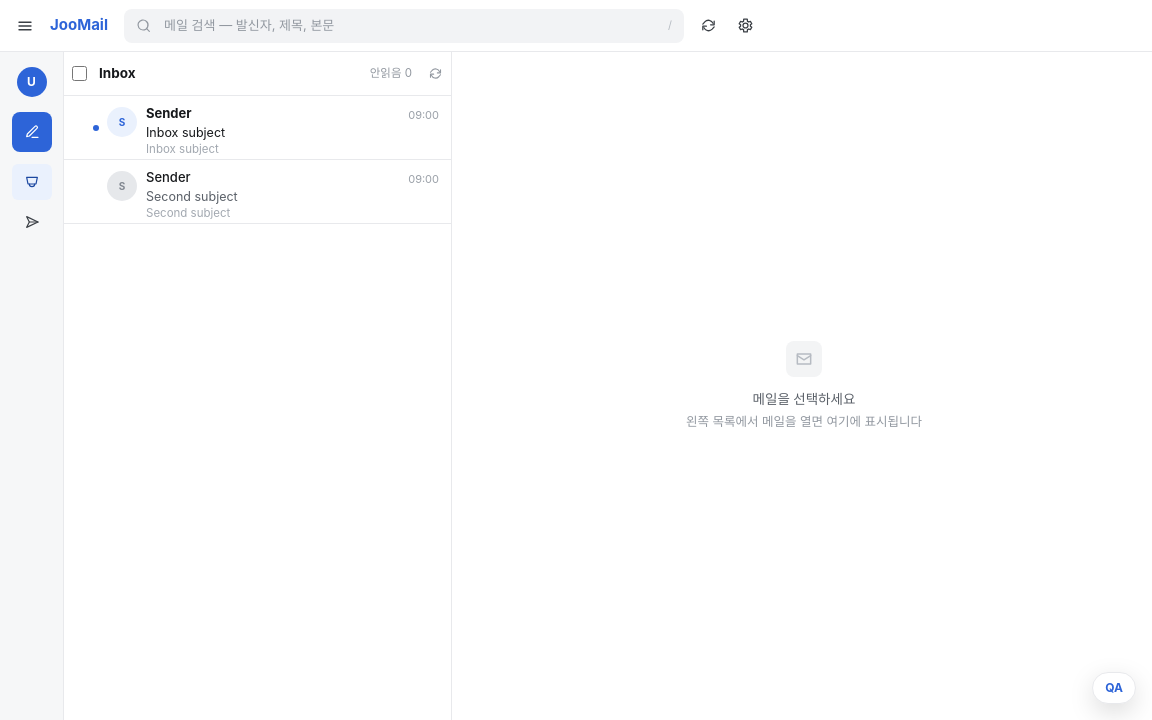
AppShell live mail behavior › ignores an older seen failure after a newer open succeeds
Click the button "S Sender 09:00 Inbox subject Inbox subject" at (169, 113), box [64,96,451,160]
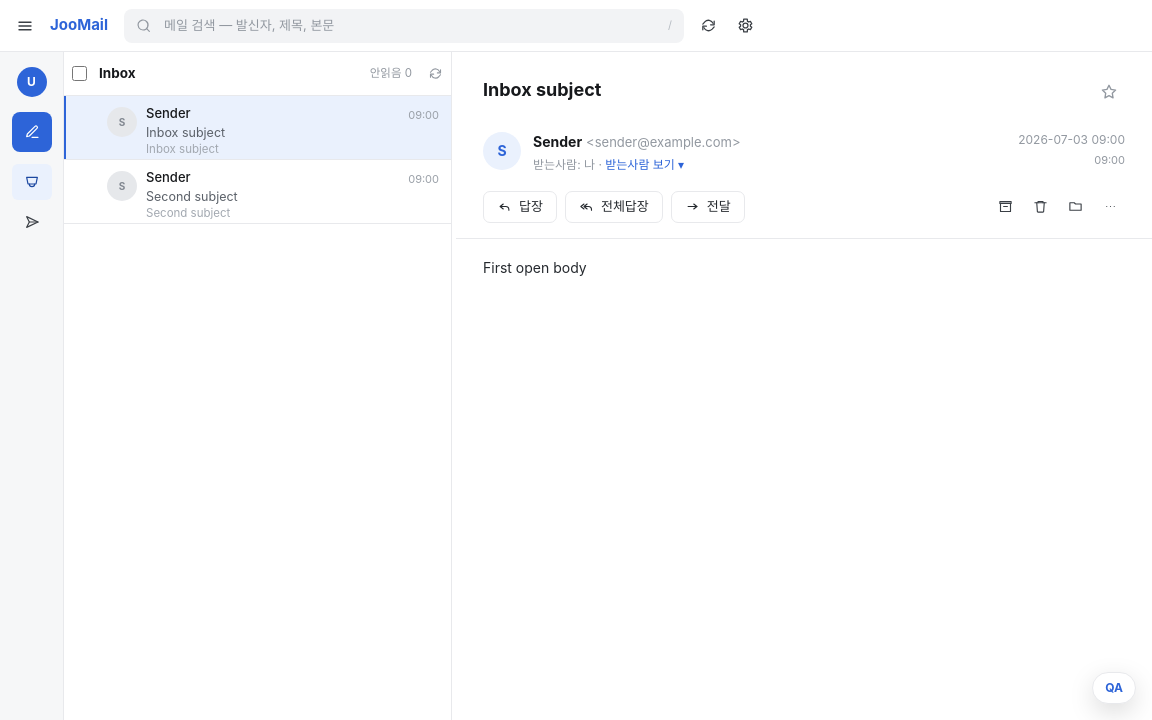
Click the button "S Sender 09:00 Second subject Second subject" at (168, 177), box [64,160,451,224]
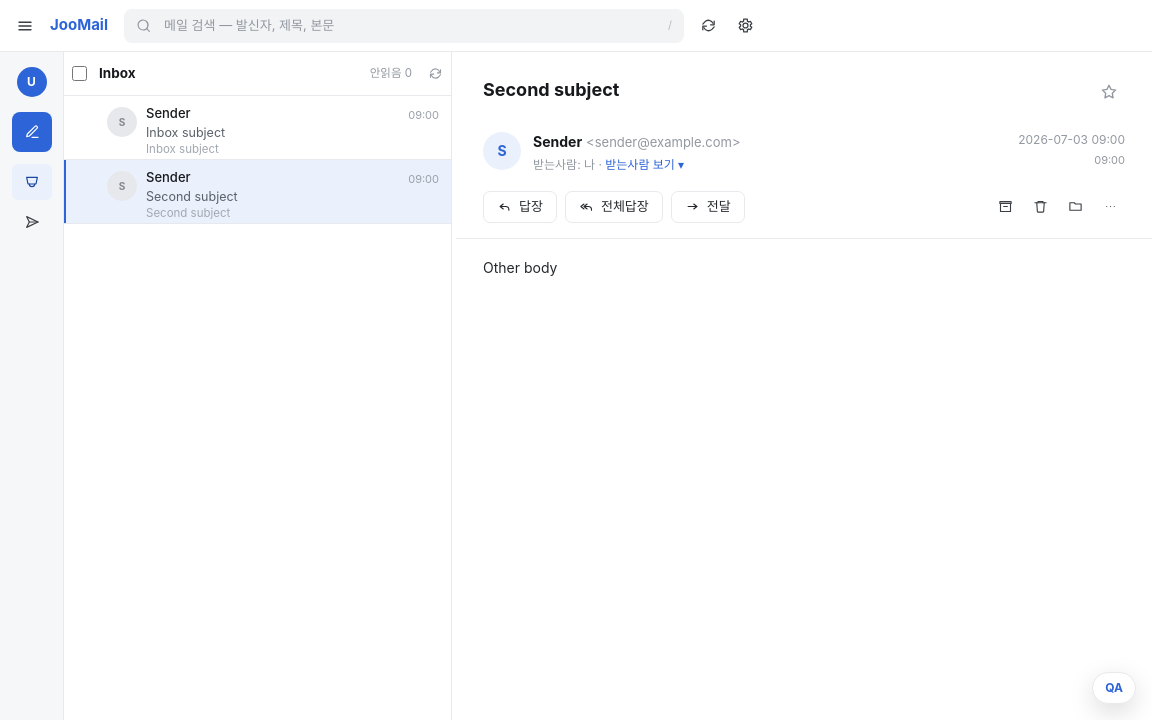
Result: the text "Other body" is shown at [483,258,557,276]
Click the button "S Sender 09:00 Inbox subject Inbox subject" at (168, 113), box [64,96,451,160]
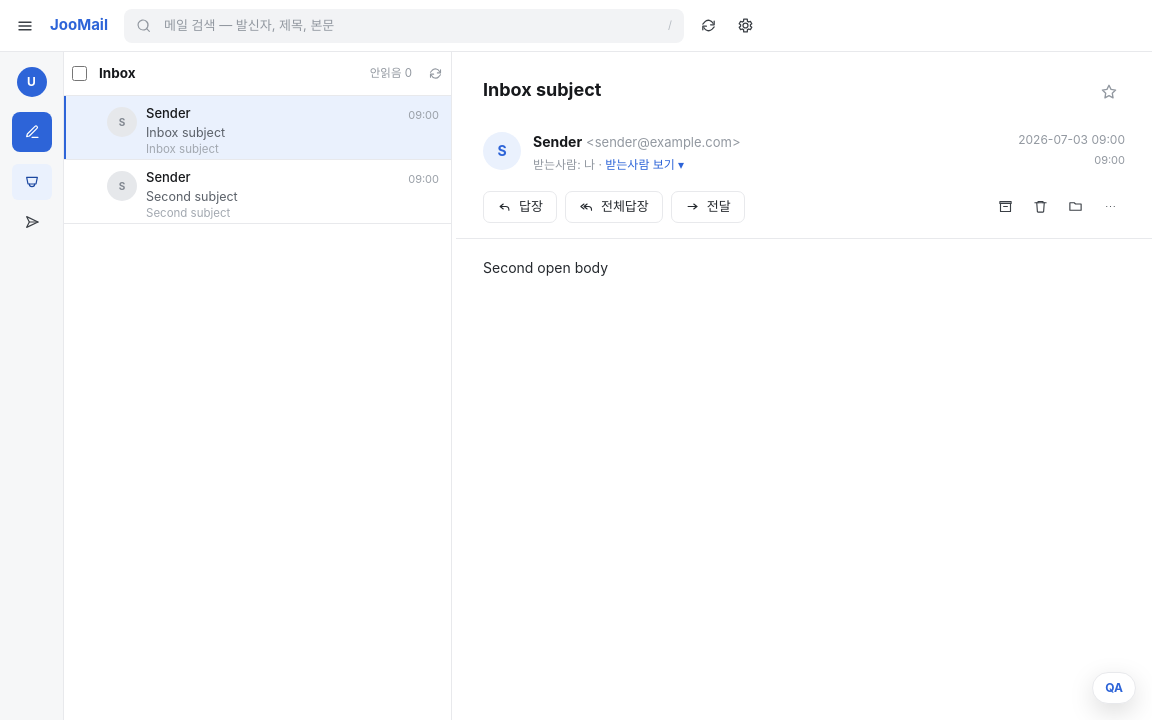
Result: the text "Second open body" is shown at [483,258,608,276]
